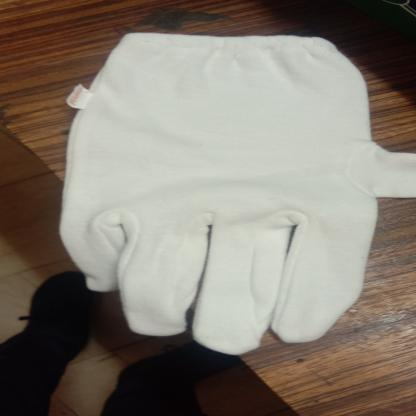gloved_hand: (51, 30, 416, 357)
